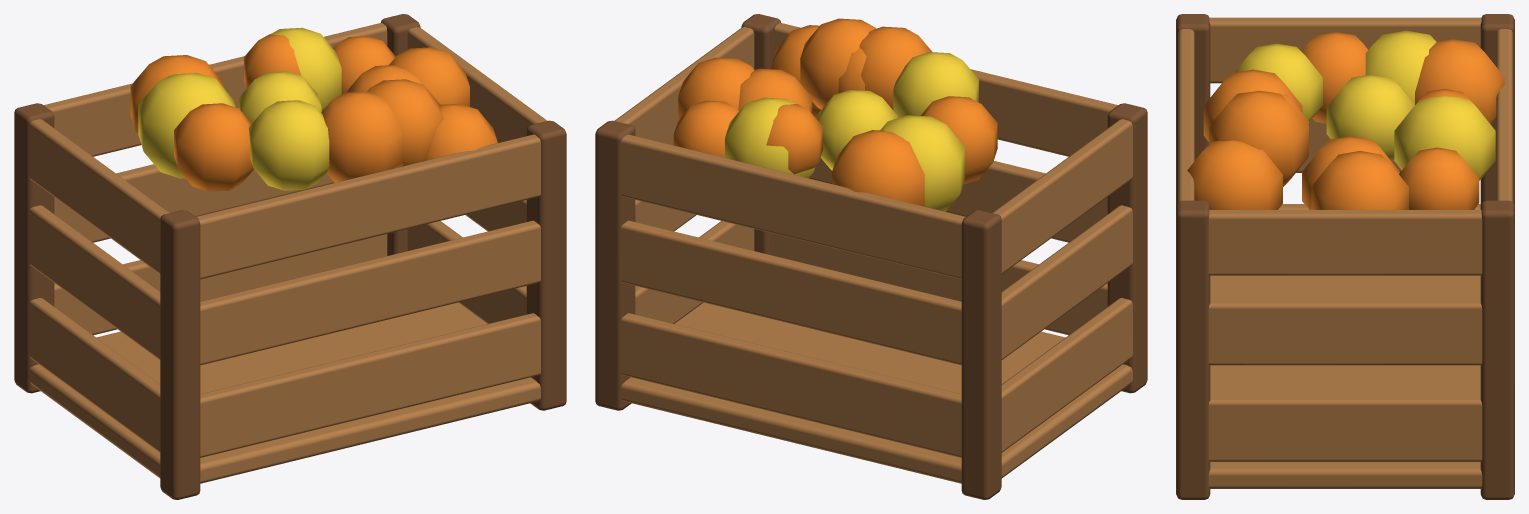
File: mk_crate_fruit.glb
3 views of the same model, side by side, from view 1: azimuth 30°, elevation 25°; view 2: azimuth 150°, elevation 25°; view 3: azimuth 270°, elevation 25° (orthographic). The views are drawn at different scales.
Visible parts, largest first — view 1: mk_crate_fruit_body; view 2: mk_crate_fruit_body; view 3: mk_crate_fruit_body.
Boxes of the visible parts, x1=… form: mk_crate_fruit_body: x1=14, y1=14, x2=566, y2=499; mk_crate_fruit_body: x1=595, y1=14, x2=1147, y2=499; mk_crate_fruit_body: x1=1176, y1=14, x2=1514, y2=499.
Bounding box in the file's own units: 0.625 × 0.4952 × 0.445.
